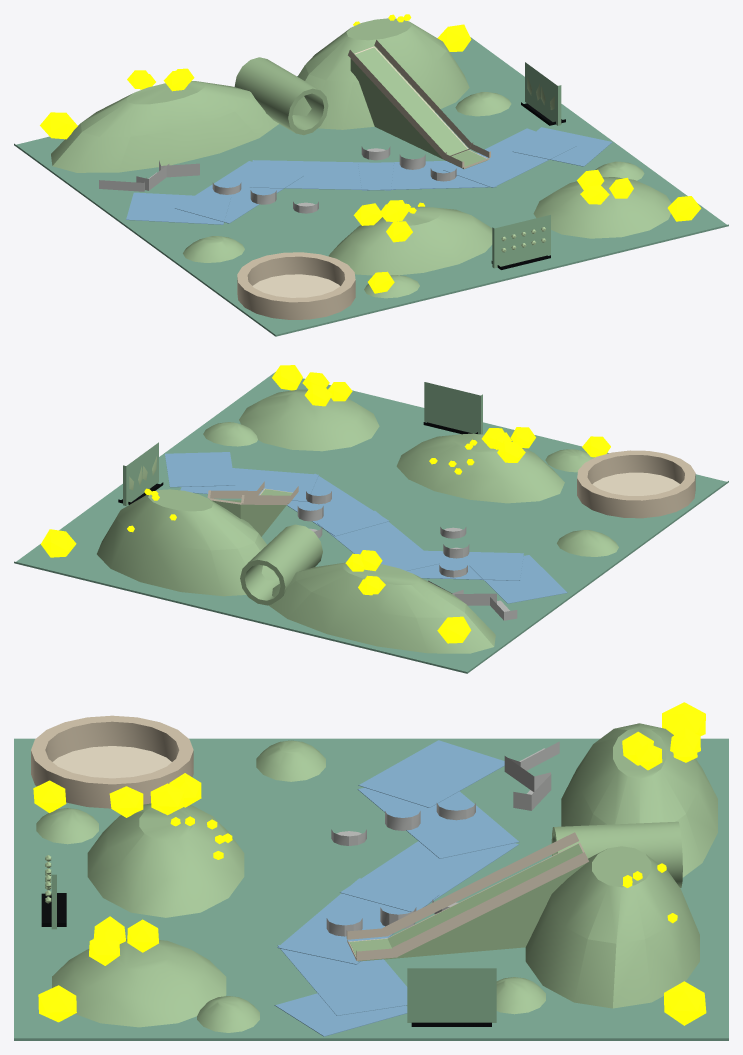
3 renders of one model, top to bottom at view 1: azimuth 30°, elevation 25°; view 2: azimuth 150°, elevation 25°; view 3: azimuth 270°, elevation 25°, orthographic. The views are drawn at different scales.
Visible parts, largest first — view 1: Terrain, Safety_Pad, River_Ribbon, Foliage, Sand_Rim, Sensory_Panels, Mini_Slide, River_Stones, Dig_Sand, Balance_Path; view 2: Terrain, Safety_Pad, River_Ribbon, Foliage, Sand_Rim, Sensory_Panels, Dig_Sand, River_Stones, Mini_Slide, Balance_Path; view 3: Safety_Pad, Terrain, River_Ribbon, Foliage, Sand_Rim, Mini_Slide, Sensory_Panels, Dig_Sand, River_Stones, Balance_Path, Panel_Feet.
Part boxes in pixels (x1=…): Terrain: x1=51, y1=18, x2=671, y2=298; Safety_Pad: x1=14, y1=37, x2=728, y2=336; River_Ribbon: x1=126, y1=127, x2=612, y2=224; Foliage: x1=40, y1=14, x2=701, y2=293; Sand_Rim: x1=237, y1=252, x2=355, y2=319; Sensory_Panels: x1=492, y1=62, x2=561, y2=268; Mini_Slide: x1=348, y1=40, x2=490, y2=168; River_Stones: x1=212, y1=146, x2=456, y2=213; Dig_Sand: x1=252, y1=274, x2=339, y2=297; Balance_Path: x1=99, y1=160, x2=199, y2=191; Terrain: x1=97, y1=389, x2=618, y2=653; Safety_Pad: x1=14, y1=372, x2=728, y2=673; River_Ribbon: x1=165, y1=452, x2=567, y2=603; Foliage: x1=40, y1=365, x2=610, y2=643; Sand_Rim: x1=577, y1=450, x2=695, y2=518; Sensory_Panels: x1=123, y1=382, x2=482, y2=505; Dig_Sand: x1=592, y1=472, x2=679, y2=495; River_Stones: x1=297, y1=491, x2=469, y2=577; Mini_Slide: x1=207, y1=481, x2=298, y2=505; Balance_Path: x1=428, y1=580, x2=517, y2=620; Safety_Pad: x1=14, y1=738, x2=728, y2=1040; Terrain: x1=36, y1=723, x2=717, y2=1032; River_Ribbon: x1=274, y1=740, x2=519, y2=1036; Foliage: x1=33, y1=702, x2=706, y2=1025; Sand_Rim: x1=31, y1=715, x2=193, y2=808; Mini_Slide: x1=346, y1=832, x2=588, y2=960; Sensory_Panels: x1=51, y1=874, x2=496, y2=1022; Dig_Sand: x1=53, y1=746, x2=171, y2=778; River_Stones: x1=326, y1=803, x2=475, y2=936; Balance_Path: x1=504, y1=741, x2=559, y2=810; Panel_Feet: x1=41, y1=893, x2=491, y2=1026.
Size of what is drawn, in the model's own units: 8 by 1.19 by 8.
11 materials, 1 textured.
